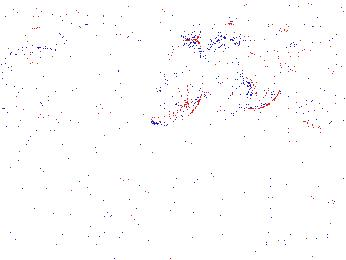moon jellyfish: (4, 48, 96, 124), (278, 38, 346, 130), (136, 39, 205, 125), (206, 35, 283, 110), (1, 69, 45, 123)
